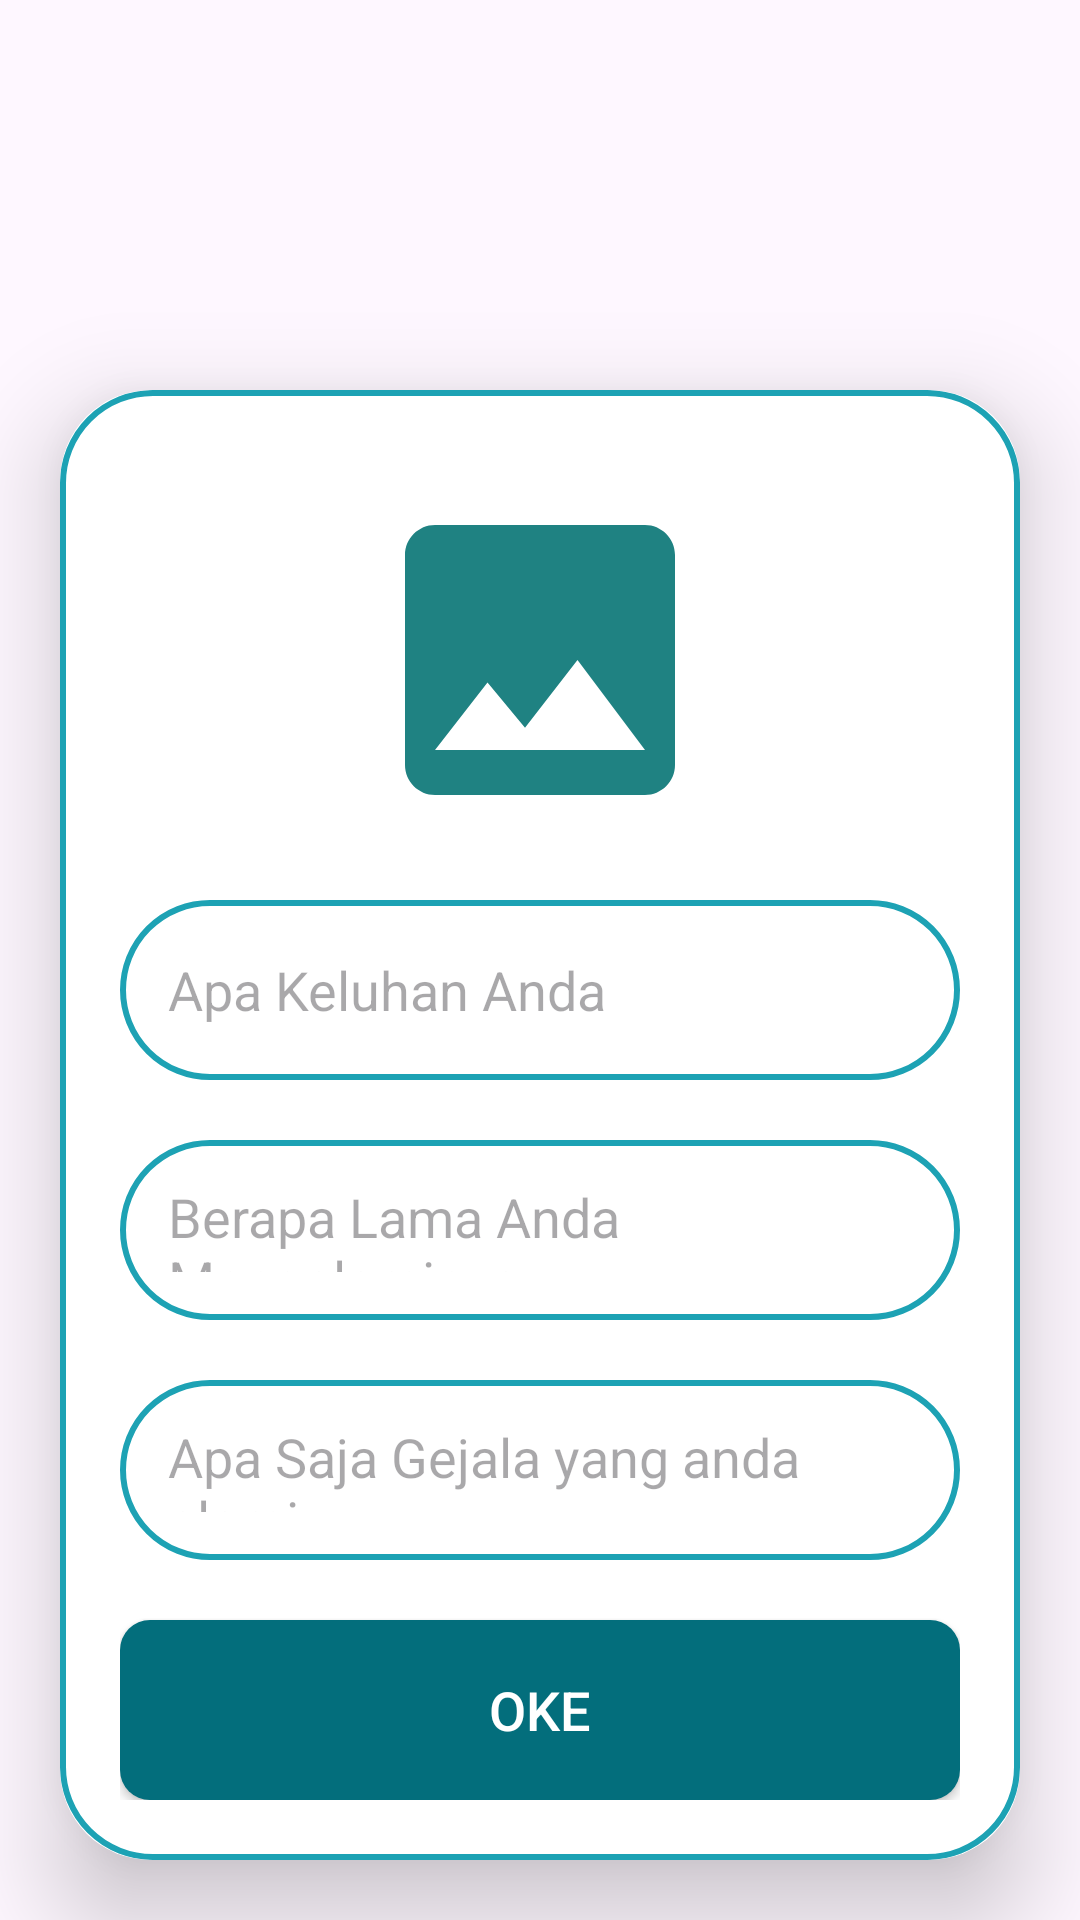

Icons on this 1080w x 1920h Android screen, each with the point to tap as [x,y]:
uploadgambardulu: [540,660]
